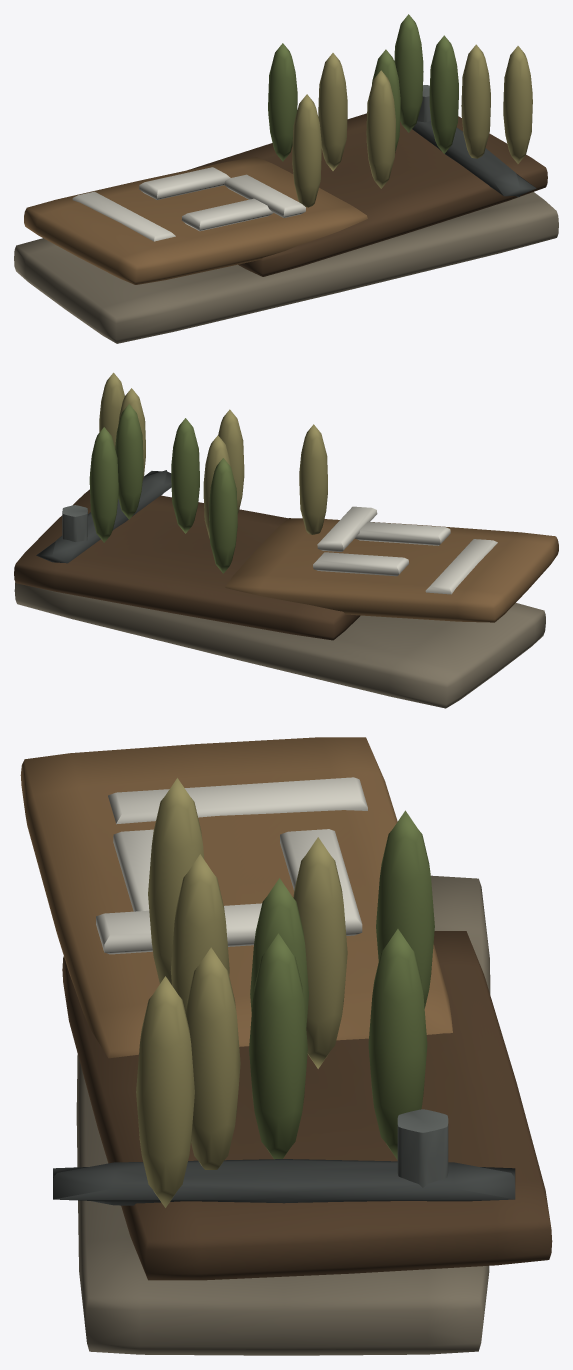
File: bent_numbers_b.glb
3 renders of one model, top to bottom at view 1: azimuth 30°, elevation 25°; view 2: azimuth 150°, elevation 25°; view 3: azimuth 270°, elevation 25°, orthographic. The views are drawn at different scales.
Parts seen in each view (by area): view 1: Surface; view 2: Surface; view 3: Surface.
Part boxes in pixels (x1=…): Surface: x1=14, y1=14, x2=558, y2=343; Surface: x1=14, y1=372, x2=558, y2=708; Surface: x1=20, y1=737, x2=552, y2=1355.
Bounding box in the file's own units: 2.28 × 0.877 × 1.15.
